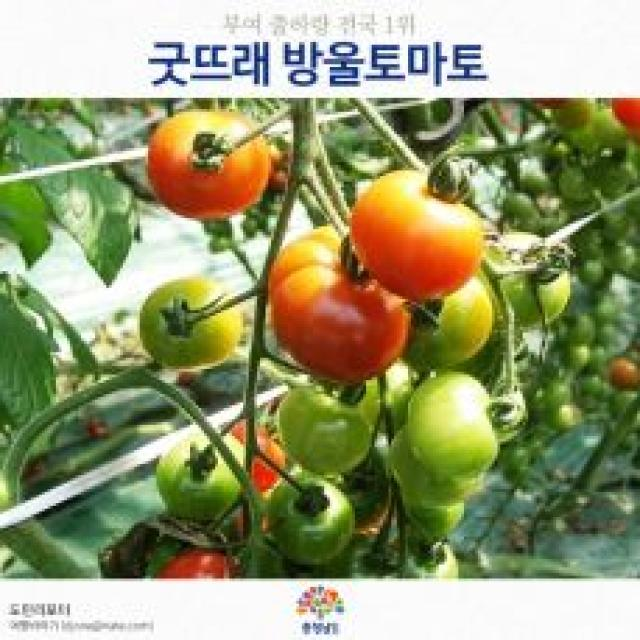level 1: (262, 466, 374, 570), (268, 370, 369, 485), (146, 429, 256, 534)
level 2: (386, 357, 534, 494)
level 3: (393, 266, 512, 379), (130, 270, 244, 380)
level 5: (346, 154, 492, 309), (140, 107, 293, 224)
level 6: (260, 224, 423, 384)
